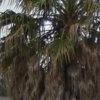Palm tree: (4, 1, 89, 91)
